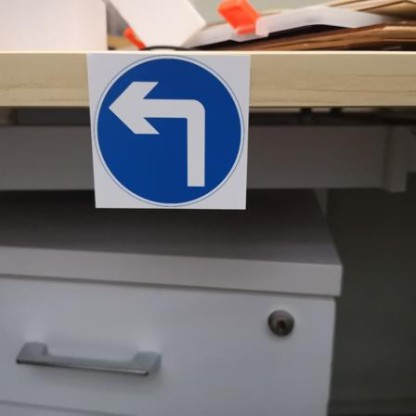left: (82, 47, 258, 205)
